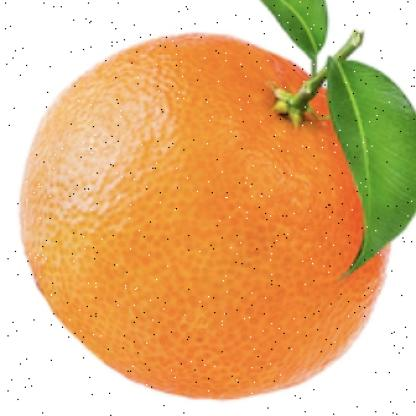fresh: (19, 28, 387, 403)
